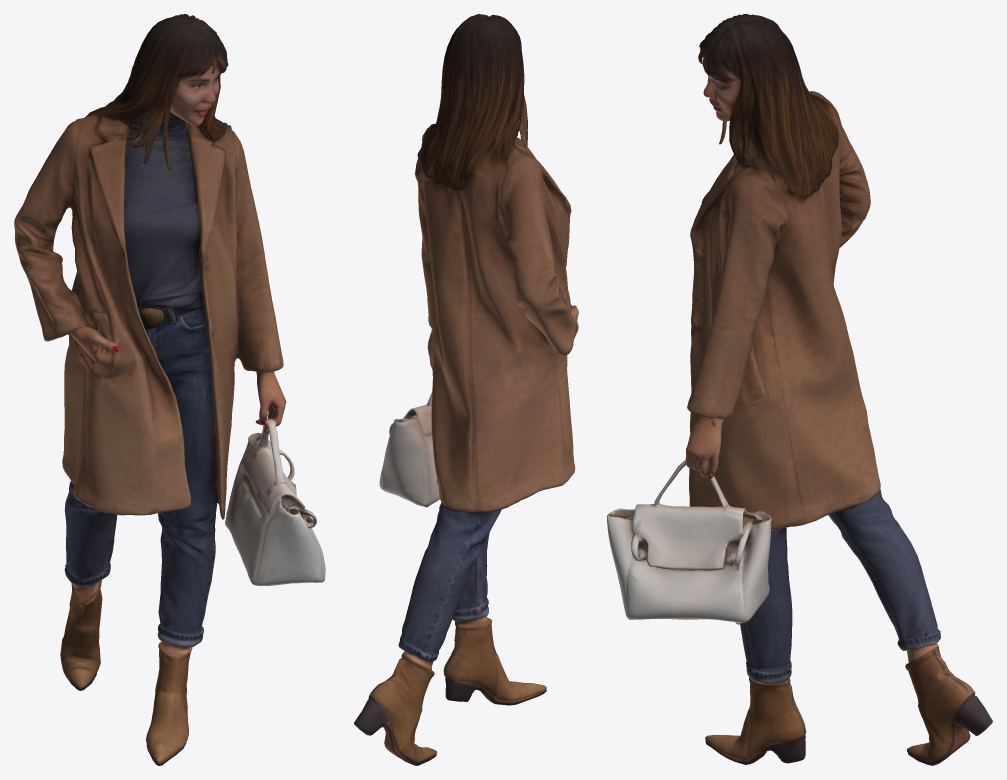
Rendered from woman.glb.
3 views of the same model, side by side, from view 1: azimuth 30°, elevation 25°; view 2: azimuth 150°, elevation 25°; view 3: azimuth 270°, elevation 25° (orthographic). The views are drawn at different scales.
Parts seen in each view (by area): view 1: woman; view 2: woman; view 3: woman.
Boxes of the visible parts, x1,y1,x2,y2 form: woman: (14,14,325,765); woman: (354,14,578,765); woman: (607,14,992,765).
Size of the model in its own units: 0.5973 by 1.75 by 0.8195.
1 material, 1 textured.
